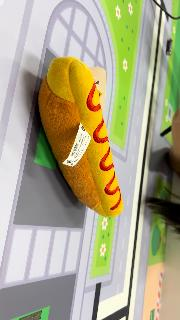hotdog: (38, 56, 124, 218)
